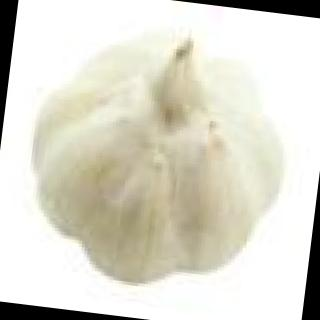Bawang Putih: (16, 19, 313, 299)
